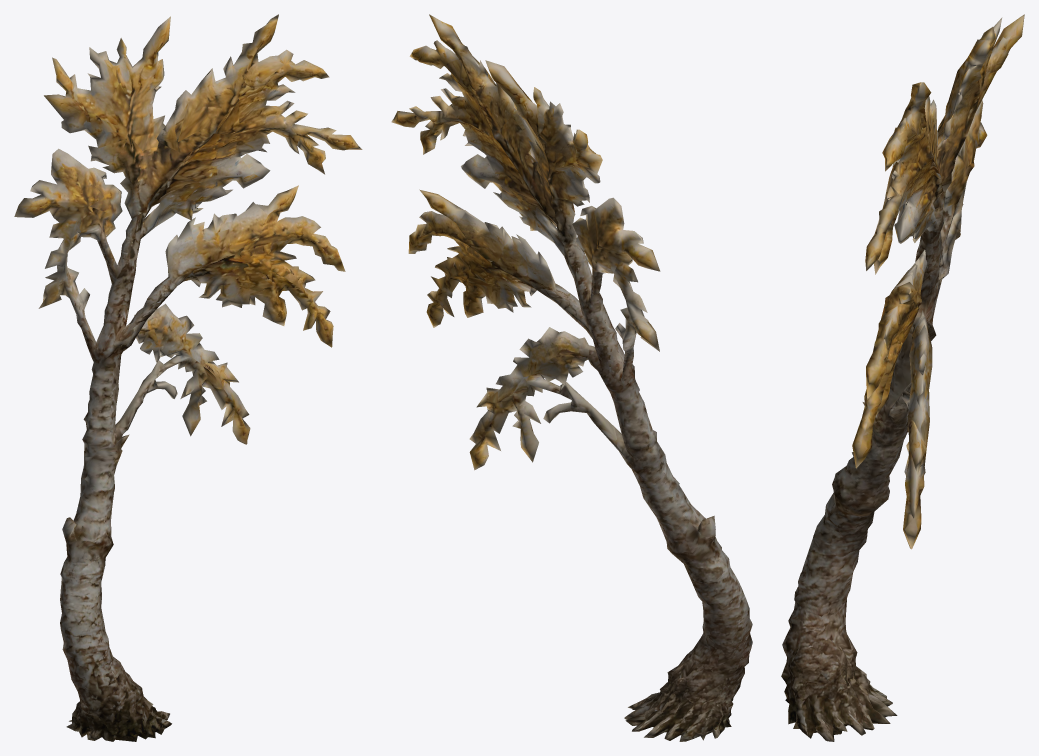
The model's file is SteppeBirch.fbx.
3 views of the same model, side by side, from view 1: azimuth 30°, elevation 25°; view 2: azimuth 150°, elevation 25°; view 3: azimuth 270°, elevation 25° (orthographic). The views are drawn at different scales.
Visible parts, largest first — view 1: SteppeBirch_Body; view 2: SteppeBirch_Body; view 3: SteppeBirch_Body.
Part boxes in pixels (left/top/right/bottom): SteppeBirch_Body: left=14, top=14, right=362, bottom=741; SteppeBirch_Body: left=391, top=14, right=752, bottom=741; SteppeBirch_Body: left=781, top=14, right=1024, bottom=741.
Size of the model in its own units: 0.5149 by 1 by 0.2954.
1 material, 1 textured.
